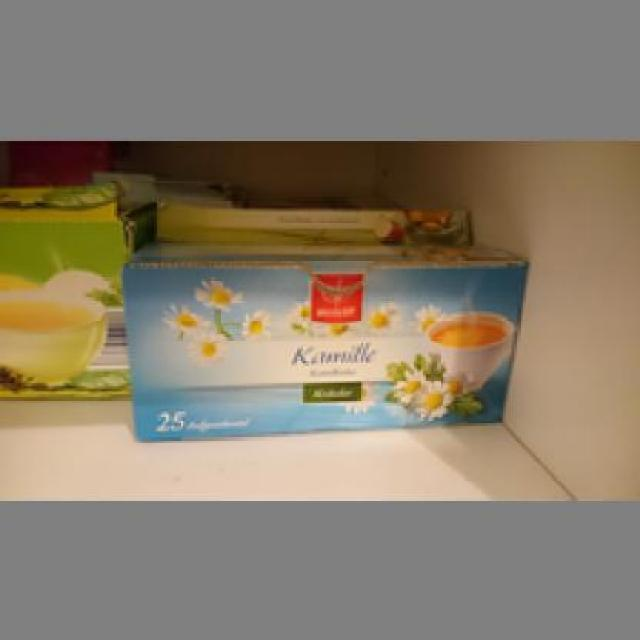Tea: (120, 231, 526, 440)
